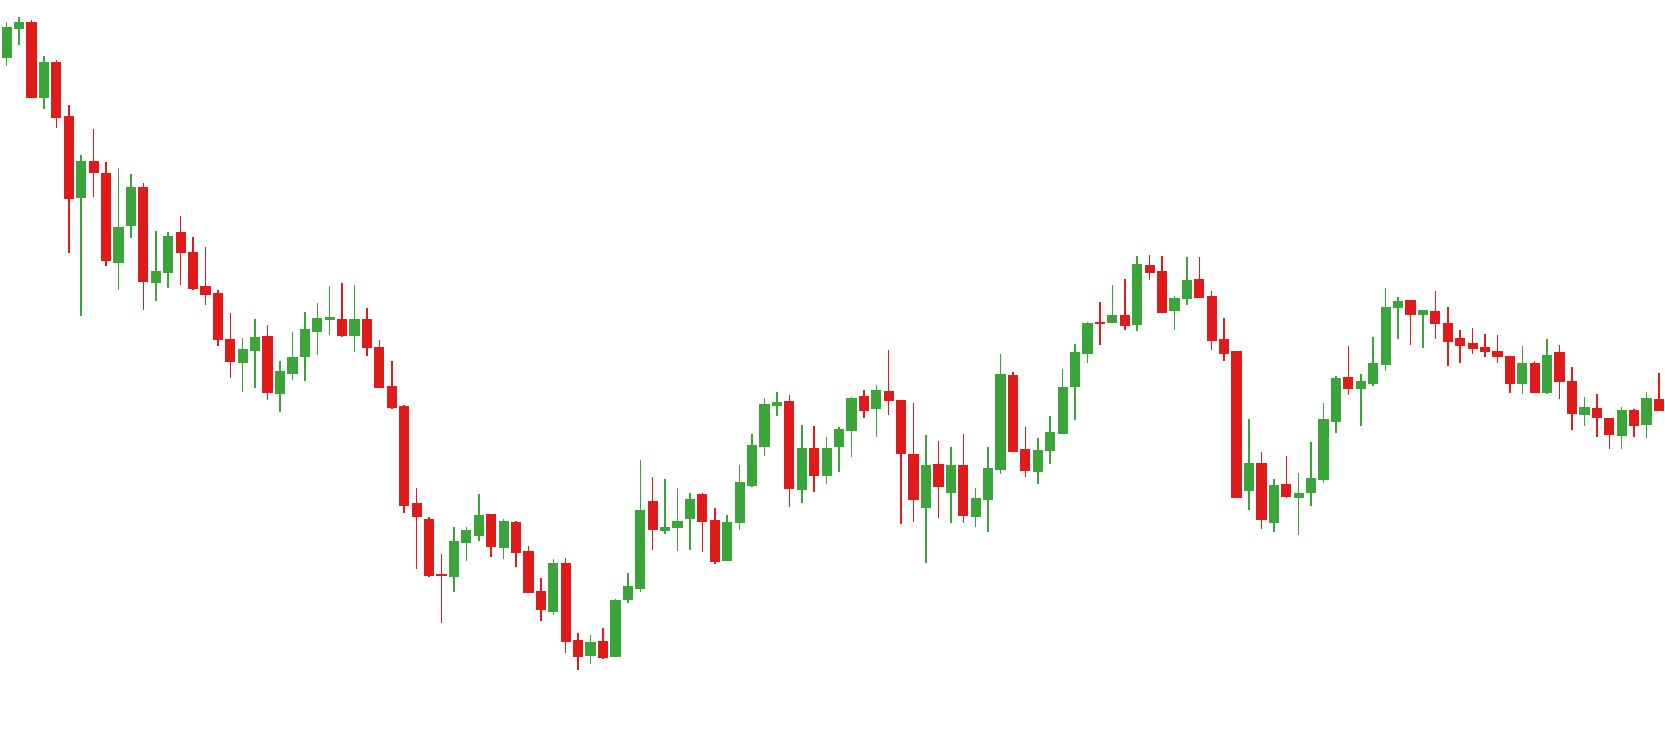buy: (1018, 360, 1256, 518), (785, 422, 933, 567)
